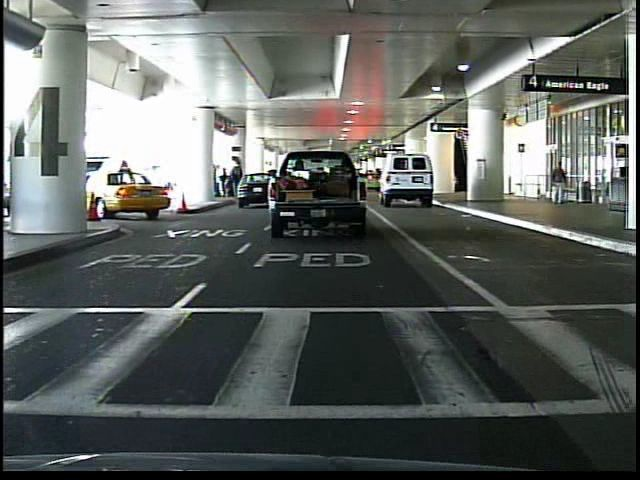person: (548, 158, 569, 210)
